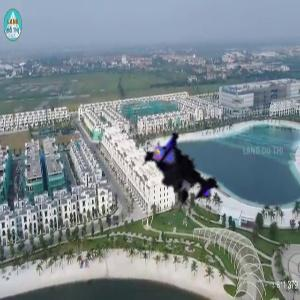drone: (124, 89, 261, 226)
